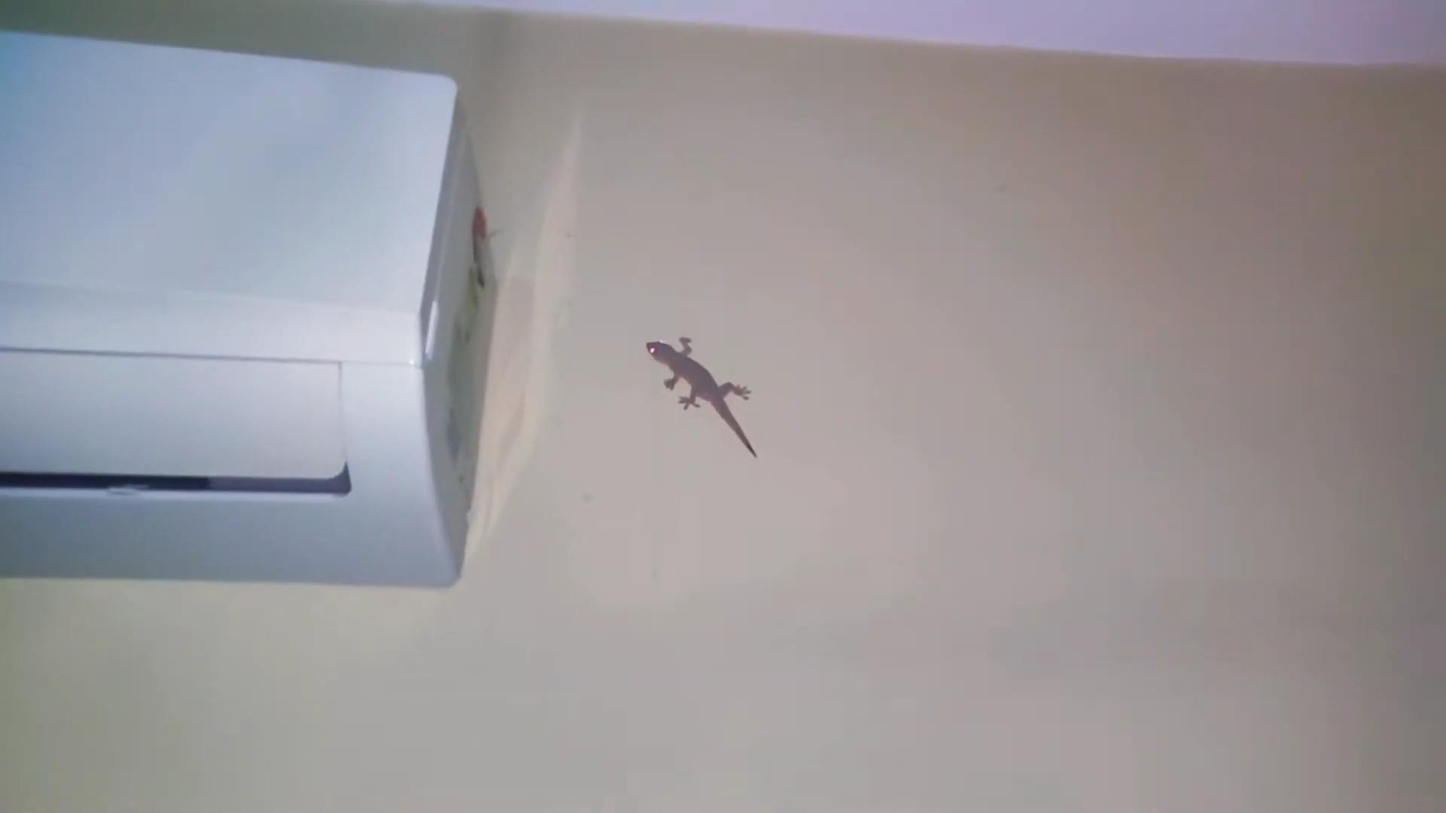lizard: (627, 320, 780, 459)
